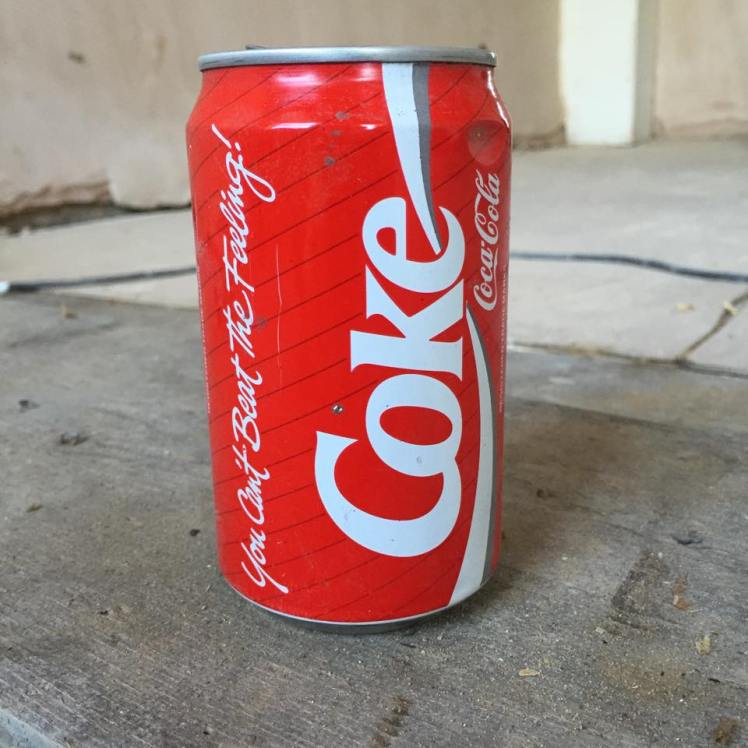can: (181, 31, 538, 643)
